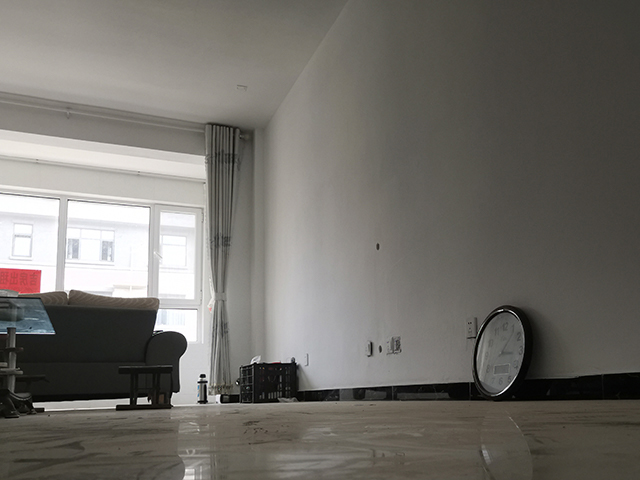curtain: (199, 118, 240, 392)
sofa: (1, 287, 189, 402)
stool: (112, 363, 177, 412)
